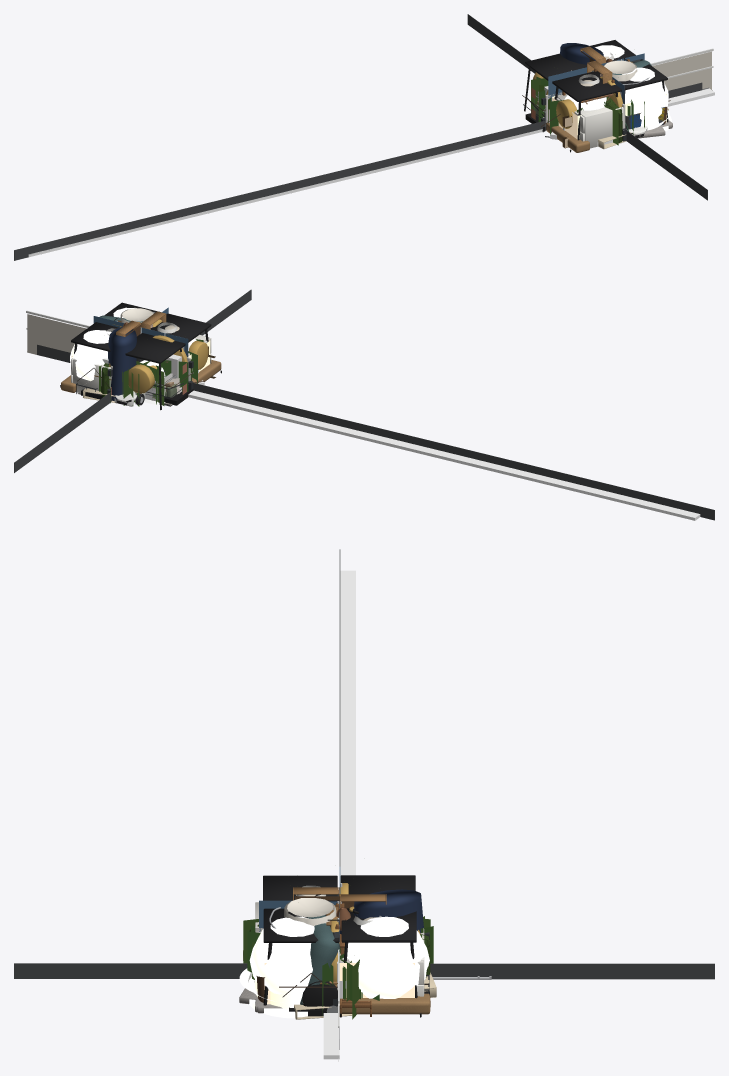
File: modell.glb
3 renders of one model, top to bottom at view 1: azimuth 30°, elevation 25°; view 2: azimuth 150°, elevation 25°; view 3: azimuth 270°, elevation 25°, orthographic. The views are drawn at different scales.
Visible parts, largest first — view 1: aussen/sockel-anthrazit-01 (×4), aussen/kiesstreifen-01 (×3), aussen/rollo-01 (×2), moebel/stuhl-polster-01 (×2), licht/pendel-schirm-messing-01, moebel/nachttisch-01, mensch/stehend-03, sonstiges/gartenlaterne-01, moebel/doppelbett-polster-01, moebel/wandbild-01, moebel/buecherregal-eiche-01; view 2: aussen/sockel-anthrazit-01 (×5), aussen/kiesstreifen-01 (×2), moebel/stuhl-polster-01 (×3), aussen/rollo-01, mensch/stehend-03, licht/pendel-schirm-messing-01, licht/wandleuchte-glaskugel-01, pflanze/margerite-01, moebel/nachttisch-01, aussen/nachbarhaus-07, strauch/hortensie-01, aussen/nachbarhaus-11 (+1 smaller); view 3: aussen/sockel-anthrazit-01 (×4), licht/pendel-schirm-messing-01 (×2), aussen/kiesstreifen-01, moebel/stuhl-polster-01 (×3), mensch/stehend-03, moebel/doppelbett-polster-01, sonstiges/gartenlaterne-01, moebel/gartenlounge-teak-01, aussen/muelltonne-braun-01.
Part boxes in pixels (x1,y1,x2,y2): aussen/sockel-anthrazit-01 (×4): (14, 14, 707, 260); aussen/kiesstreifen-01 (×3): (28, 87, 714, 257); aussen/rollo-01 (×2): (651, 48, 713, 90); moebel/stuhl-polster-01 (×2): (524, 53, 621, 111); licht/pendel-schirm-messing-01: (622, 67, 668, 120); moebel/nachttisch-01: (554, 94, 623, 148); mensch/stehend-03: (560, 43, 603, 64); sonstiges/gartenlaterne-01: (604, 60, 637, 81); moebel/doppelbett-polster-01: (542, 123, 589, 152); moebel/wandbild-01: (545, 67, 586, 122); moebel/buecherregal-eiche-01: (578, 60, 612, 84); aussen/sockel-anthrazit-01 (×5): (14, 289, 714, 520); aussen/kiesstreifen-01 (×2): (188, 390, 700, 520); moebel/stuhl-polster-01 (×3): (71, 313, 211, 410); aussen/rollo-01: (26, 310, 89, 354); mensch/stehend-03: (108, 327, 136, 401); licht/pendel-schirm-messing-01: (70, 330, 111, 381); licht/wandleuchte-glaskugel-01: (128, 335, 187, 393); pflanze/margerite-01: (123, 361, 164, 405); moebel/nachttisch-01: (71, 359, 110, 393); aussen/nachbarhaus-07: (135, 363, 193, 406); strauch/hortensie-01: (156, 360, 188, 404); aussen/nachbarhaus-11: (154, 354, 193, 405); aussen/sockel-anthrazit-01 (×4): (14, 963, 714, 979); licht/pendel-schirm-messing-01 (×2): (249, 906, 429, 998); aussen/kiesstreifen-01: (340, 592, 355, 882); moebel/stuhl-polster-01 (×3): (263, 875, 417, 997); mensch/stehend-03: (354, 889, 423, 933); moebel/doppelbett-polster-01: (340, 993, 429, 1017); sonstiges/gartenlaterne-01: (284, 898, 336, 925); moebel/gartenlounge-teak-01: (300, 916, 339, 1004); aussen/muelltonne-braun-01: (256, 976, 337, 1012).
Size of the model in its own units: 820985 by 70883 by 489037.
Materials: 636 (172 with a texture image).
